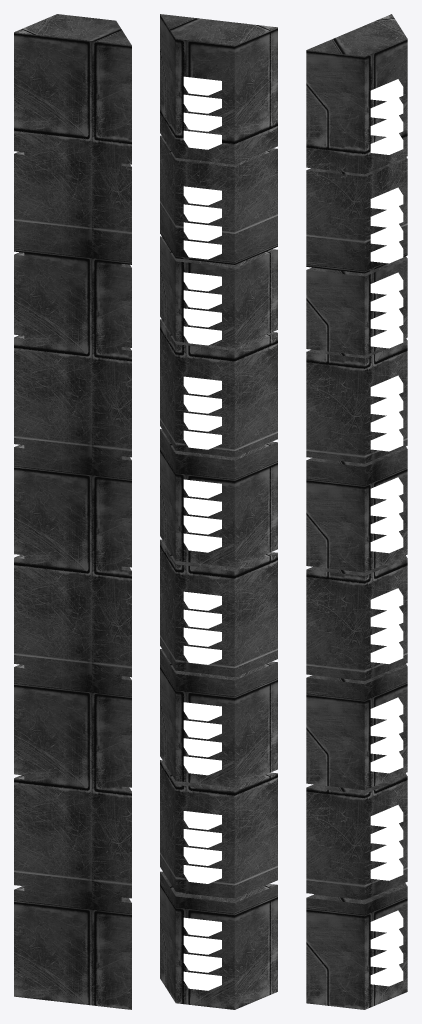
Rendered from lantian_lamp.glb.
3 views of the same model, side by side, from view 1: azimuth 30°, elevation 25°; view 2: azimuth 210°, elevation 25°; view 3: azimuth 270°, elevation 25° (orthographic).
Parts seen in each view (by area): view 1: Component_19; view 2: Component_19, Component_7_24, ID4457_18, ID4465_18, ID4427_31, ID4411_27, ID4419_28, ID4427_27, ID4464, ID4478, ID4457_17, ID4465_17 (+25 smaller); view 3: Component_19, ID4464, ID4419_29, ID4457_17, ID4457_18, ID4419_30, ID4457_19, ID4419_31, ID4419_32, ID4419_28, ID4465_17, ID4478 (+25 smaller).
Boxes of the visible parts, bbox=[...] form: Component_19: bbox=[14, 14, 131, 1009]; Component_19: bbox=[160, 14, 277, 1009]; Component_7_24: bbox=[183, 308, 221, 327]; ID4457_18: bbox=[183, 186, 221, 205]; ID4465_18: bbox=[183, 240, 221, 259]; ID4427_31: bbox=[183, 756, 221, 775]; ID4411_27: bbox=[183, 94, 221, 113]; ID4419_28: bbox=[183, 76, 221, 95]; ID4427_27: bbox=[183, 130, 221, 149]; ID4464: bbox=[183, 376, 221, 395]; ID4478: bbox=[183, 430, 221, 449]; ID4457_17: bbox=[183, 272, 221, 291]; ID4465_17: bbox=[183, 326, 221, 345]; Component_19: bbox=[306, 14, 407, 1009]; ID4464: bbox=[370, 375, 403, 397]; ID4419_29: bbox=[370, 588, 403, 610]; ID4457_17: bbox=[370, 272, 403, 294]; ID4457_18: bbox=[370, 187, 403, 209]; ID4419_30: bbox=[370, 805, 403, 827]; ID4457_19: bbox=[370, 477, 403, 499]; ID4419_31: bbox=[370, 910, 403, 932]; ID4419_32: bbox=[370, 697, 403, 719]; ID4419_28: bbox=[370, 79, 403, 101]; ID4465_17: bbox=[370, 326, 403, 348]; ID4478: bbox=[370, 430, 403, 451].
Size of the model in its own units: 0.858 by 8.94 by 0.8581.
Materials: 2 (1 with a texture image).
